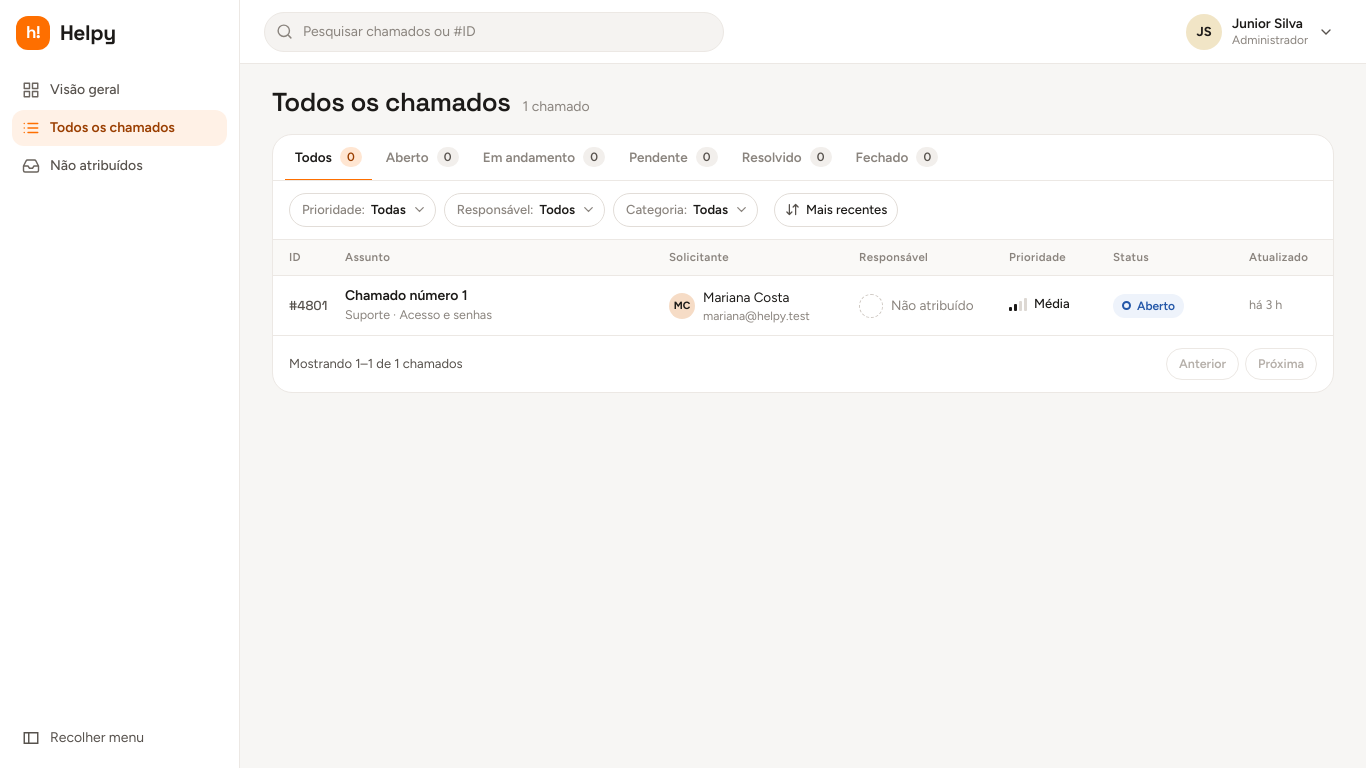
Test case: ticket filters › an admin also sees the technicians in Responsável
This screenshot has width=1366, height=768.
Step 1. Click the button "Responsável: Todos" → click(524, 210), box [444, 193, 605, 227]
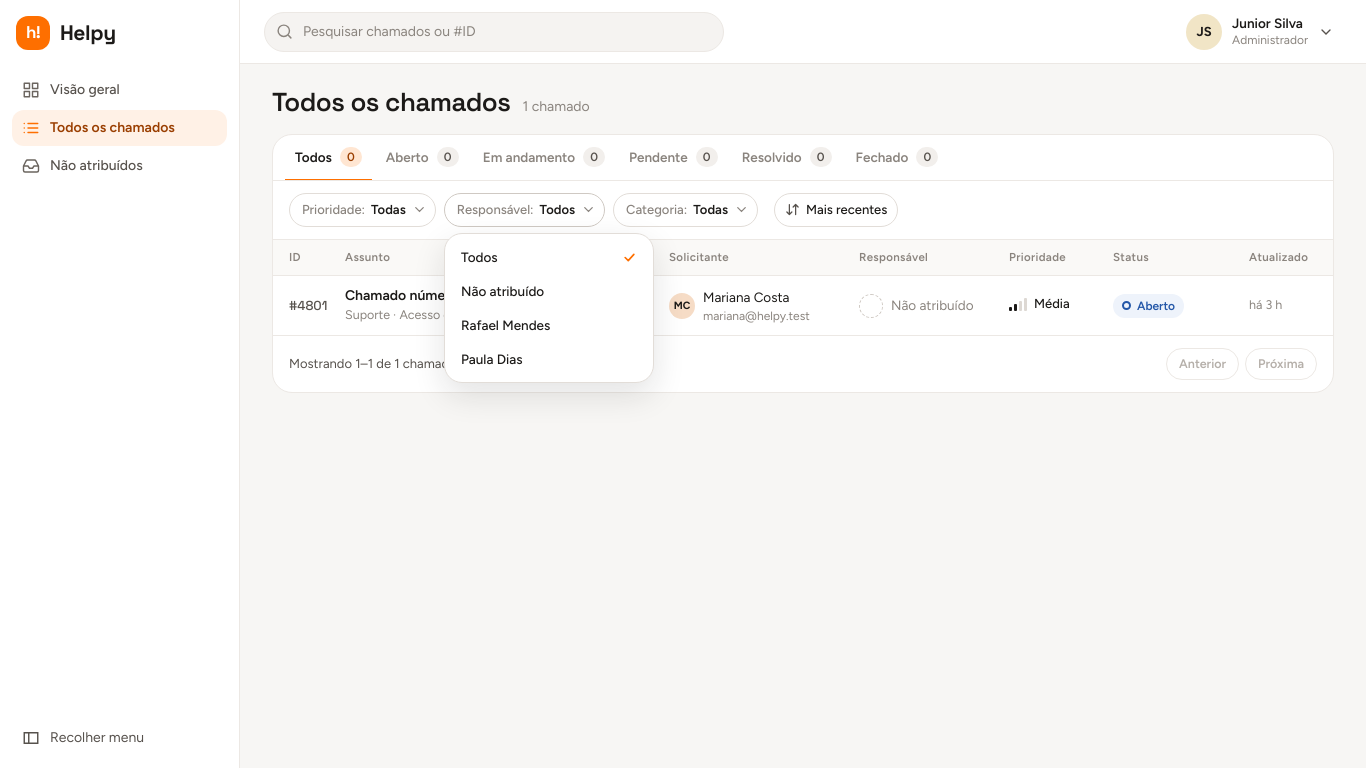
Step 2. Click the menu item "Rafael Mendes" → click(506, 325), box [461, 317, 550, 333]
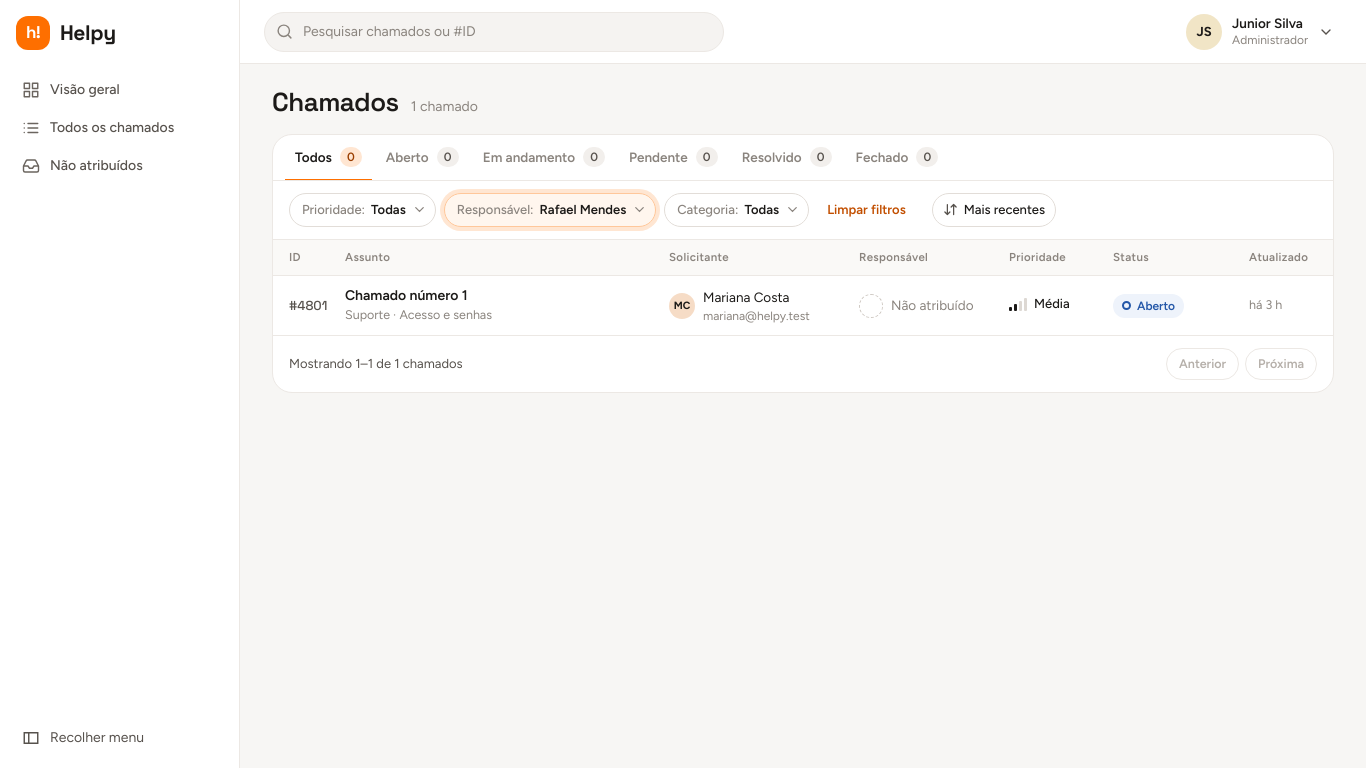
Result: the button "Responsável: Rafael Mendes" is shown at [444, 193, 656, 227]
